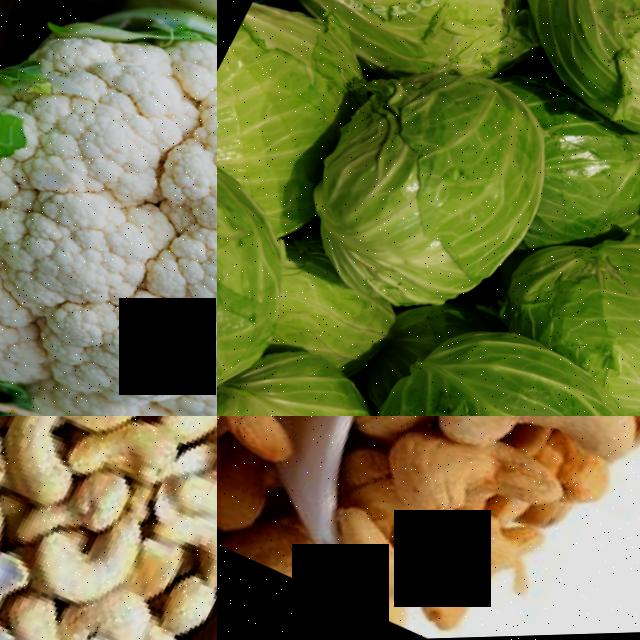cabbage: (299, 47, 594, 349), (217, 146, 340, 416), (351, 312, 640, 416), (522, 216, 640, 416), (516, 0, 640, 160), (217, 330, 432, 416)
cashew: (380, 416, 587, 551), (25, 516, 172, 636), (441, 416, 640, 496), (331, 504, 438, 609), (72, 419, 192, 512), (217, 416, 343, 483), (0, 416, 102, 497), (151, 554, 217, 637), (159, 491, 217, 580), (189, 416, 217, 523), (74, 615, 149, 640), (84, 416, 169, 435), (162, 416, 217, 443), (217, 416, 239, 464), (217, 430, 223, 533)
cauliflower: (0, 0, 217, 416), (89, 0, 217, 170)
